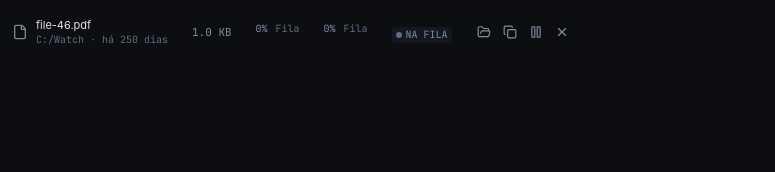
it: JobRow actions › shows a failed action's error message inline for a few seconds
What coordinates should you click on to do the following:
click the button named "abrir no explorer"
I would click on:
 (484, 32)
Its box is [472,20,496,44].
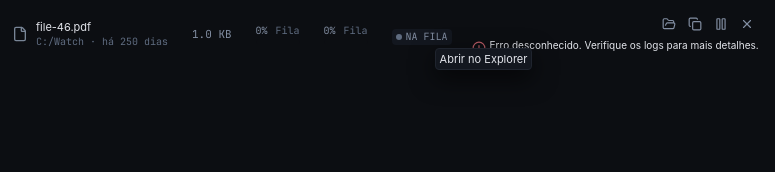
Check: the message "Erro desconhecido. Verifique os logs para mais detalhes." is shown, box [472,38,759,55]
